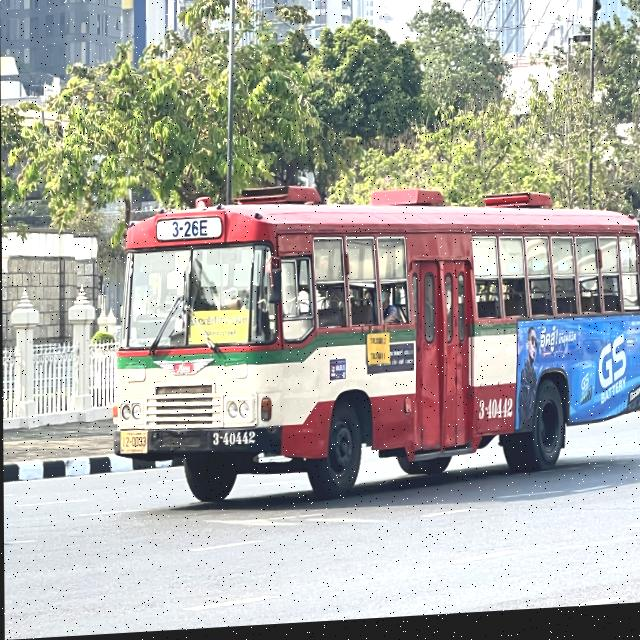BMTA-bus: (108, 178, 640, 514)
Bus-Line-Number: (163, 216, 213, 243)
Destination-Sign-Normal-Expressway: (188, 308, 253, 352)
